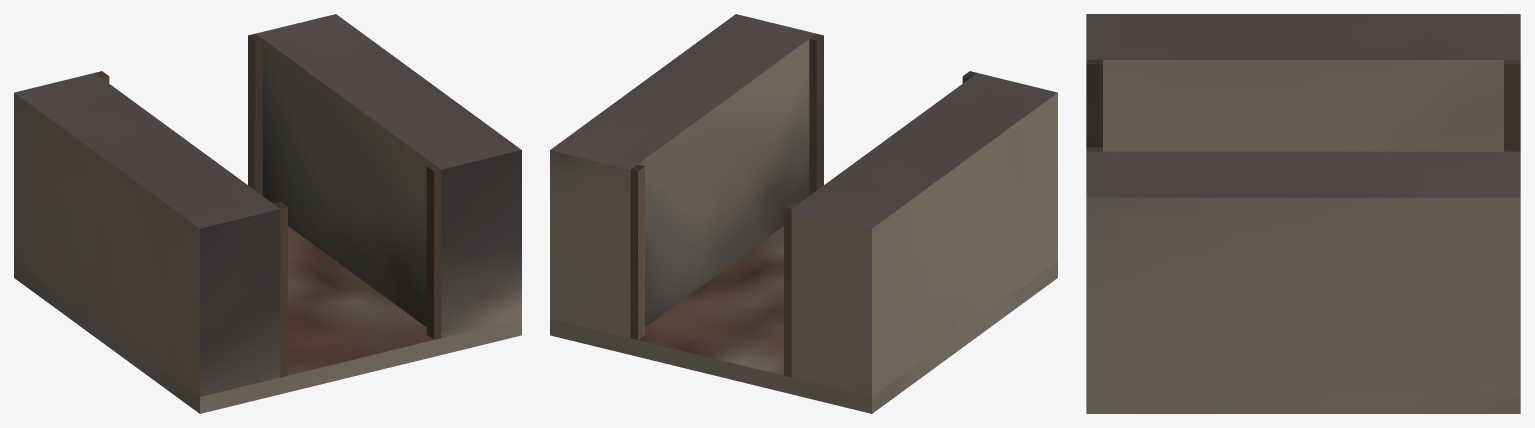
Rendered from Tile_Straight_Default_v2.fbx.
3 views of the same model, side by side, from view 1: azimuth 30°, elevation 25°; view 2: azimuth 150°, elevation 25°; view 3: azimuth 270°, elevation 25° (orthographic). The views are drawn at different scales.
Parts seen in each view (by area): view 1: TileStraight; view 2: TileStraight; view 3: TileStraight.
Part boxes in pixels (<box>): TileStraight: <box>14,14,521,413</box>; TileStraight: <box>550,14,1057,413</box>; TileStraight: <box>1086,14,1520,413</box>.
Size of the model in its own units: 2000 by 1100 by 2000.
4 materials, 4 textured.
